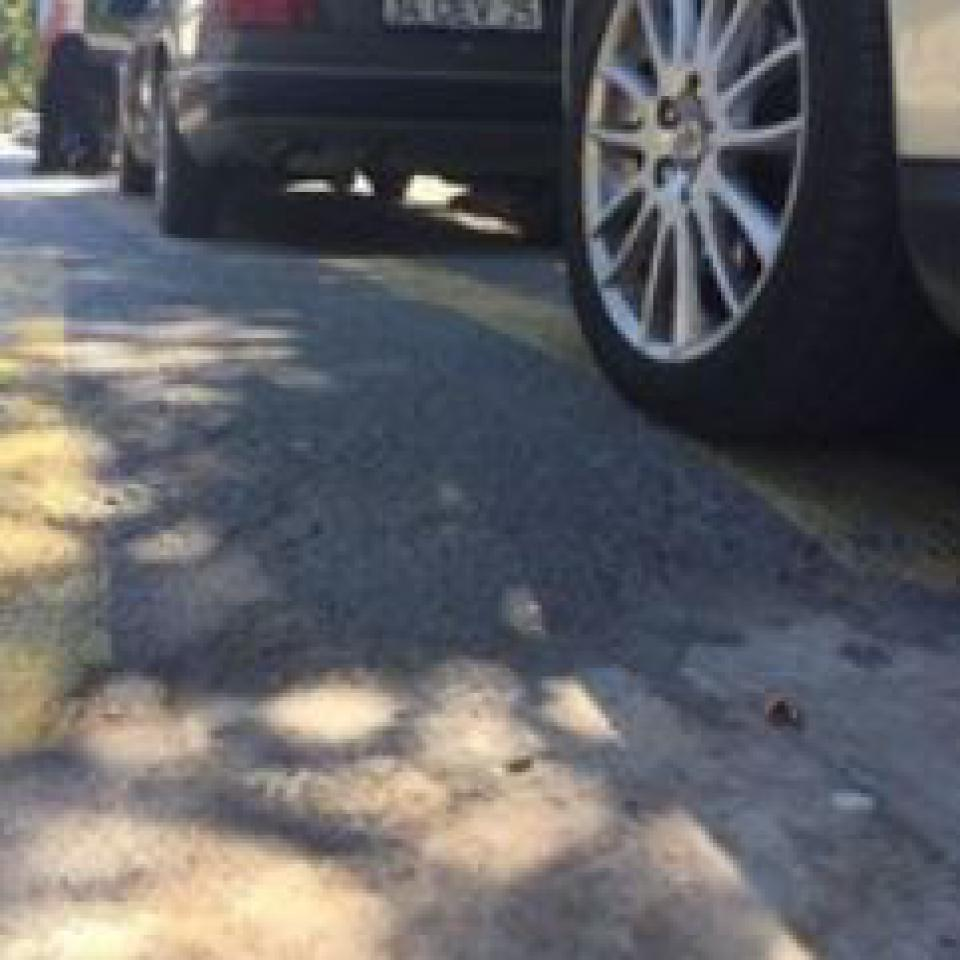speedbreaker: (0, 250, 518, 759)
